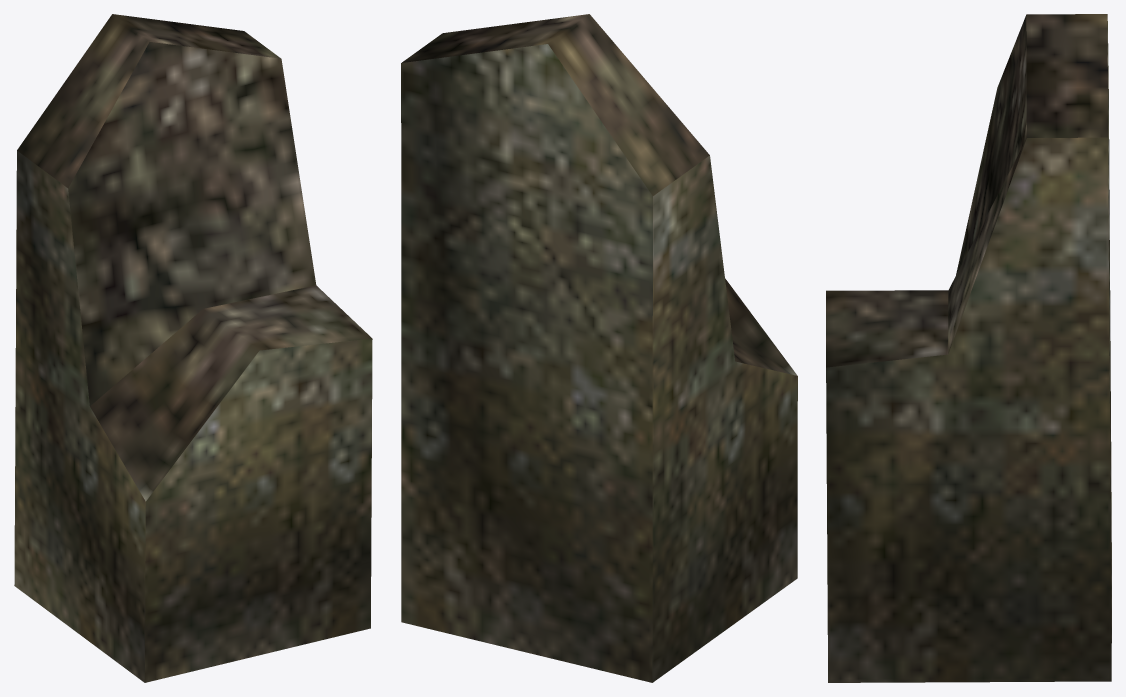
Rendered from stbuho35.dae.
3 renders of one model, left to right at view 1: azimuth 30°, elevation 25°; view 2: azimuth 150°, elevation 25°; view 3: azimuth 270°, elevation 25°, orthographic. The views are drawn at different scales.
Visible parts, largest first — view 1: stone; view 2: stone; view 3: stone.
Boxes of the visible parts, x1=… form: stone: x1=14, y1=14, x2=372, y2=682; stone: x1=401, y1=14, x2=797, y2=682; stone: x1=826, y1=14, x2=1111, y2=682.
Size of the model in its own units: 0.4509 by 0.4503 by 1.04.
Materials: 1 (1 with a texture image).
